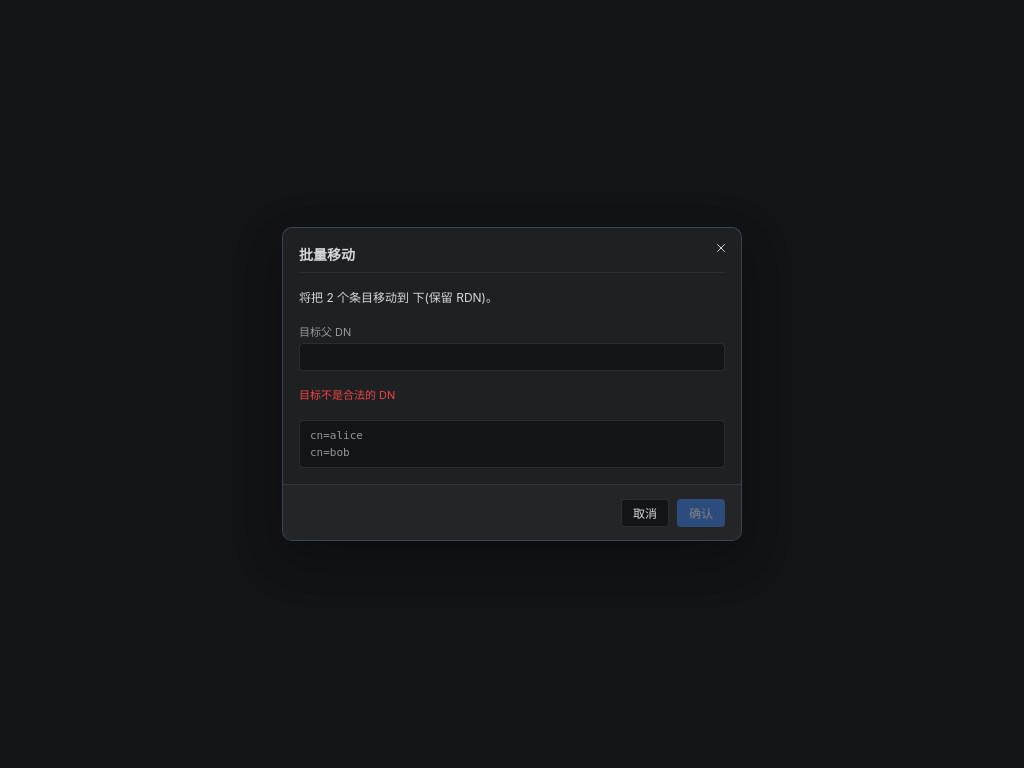
Test: BatchMoveDialog › blocks doomed targets: inside a selected subtree, the entry itself, or its current parent
The image size is (1024, 768).
Type "CN=alice,dc=demo,dc=dbx" into the field with class "target-input" at (512, 357), box [299,343,725,371]
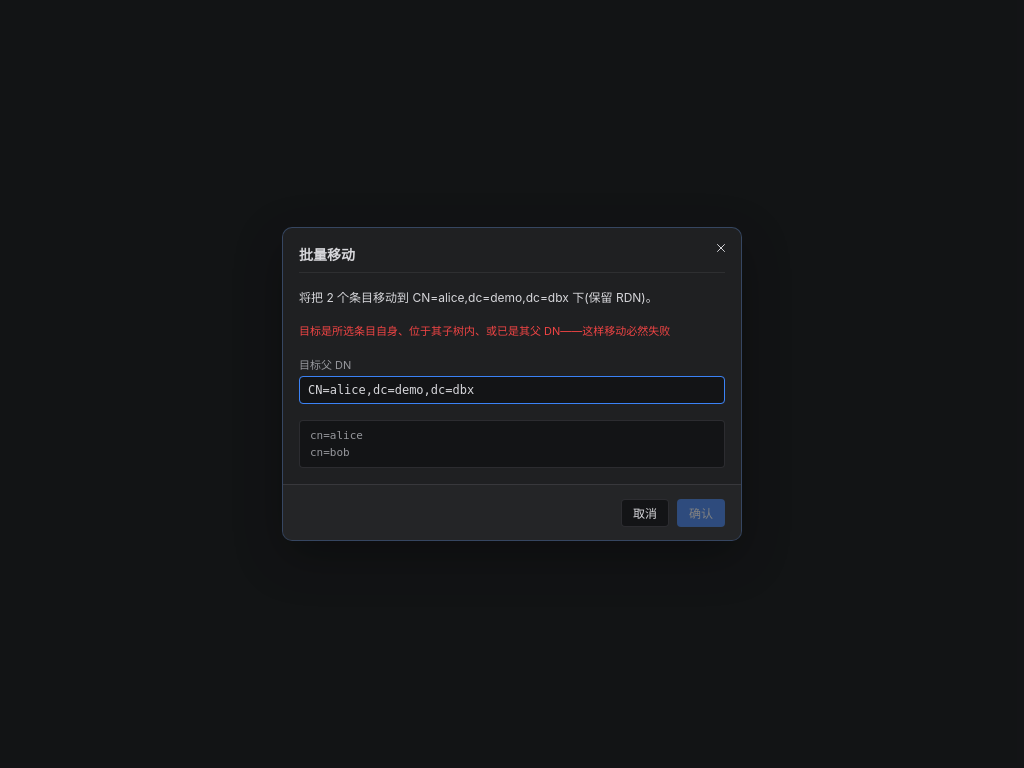
Check: the button "确认" is disabled, box [677,499,725,527]
Check: the field with class "target-input" is not marked as invalid
Replace the text in the field with class "target-input" with "ou=staff,cn=alice,dc=demo,dc=dbx" at (512, 390), box [299,376,725,404]
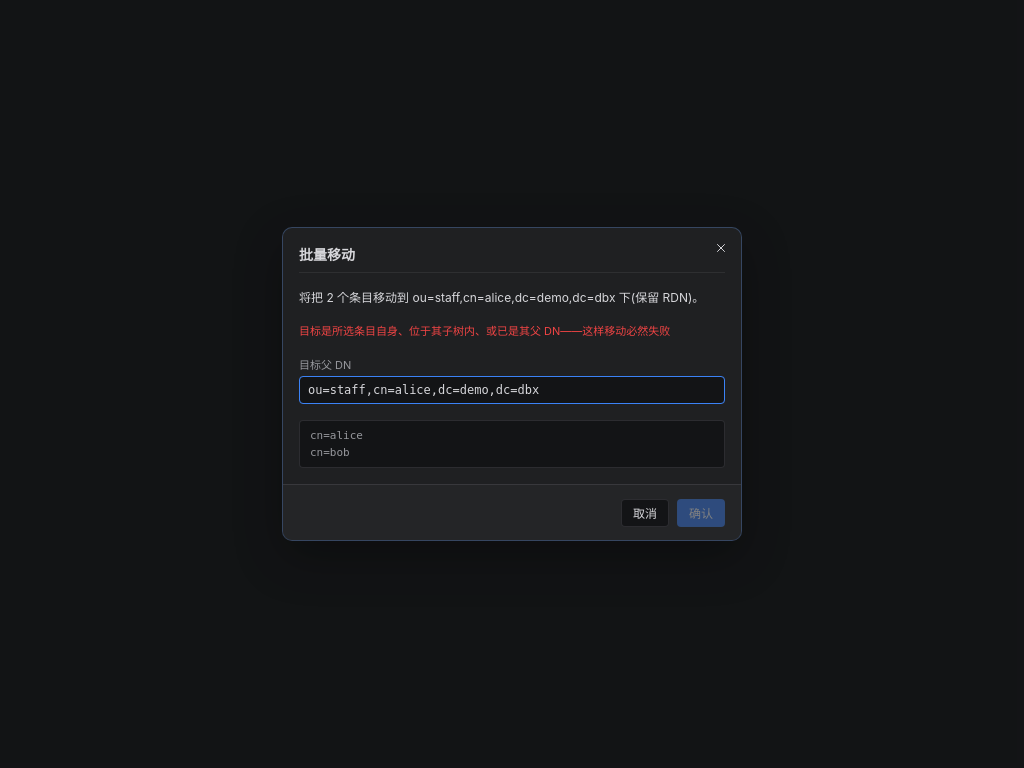
Check: the button "确认" is disabled, box [677,499,725,527]
Replace the text in the field with class "target-input" with "dc=demo,dc=dbx" at (512, 390), box [299,376,725,404]
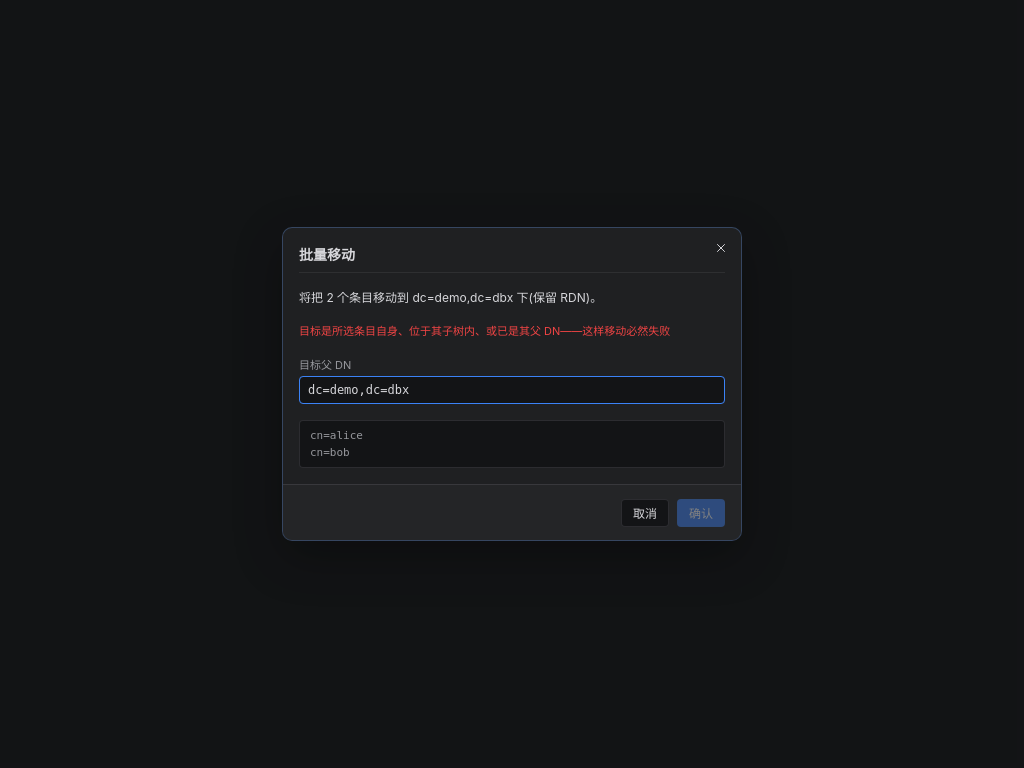
Check: the button "确认" is disabled, box [677,499,725,527]
Replace the text in the field with class "target-input" with "ou=people,dc=demo,dc=dbx" at (512, 390), box [299,376,725,404]
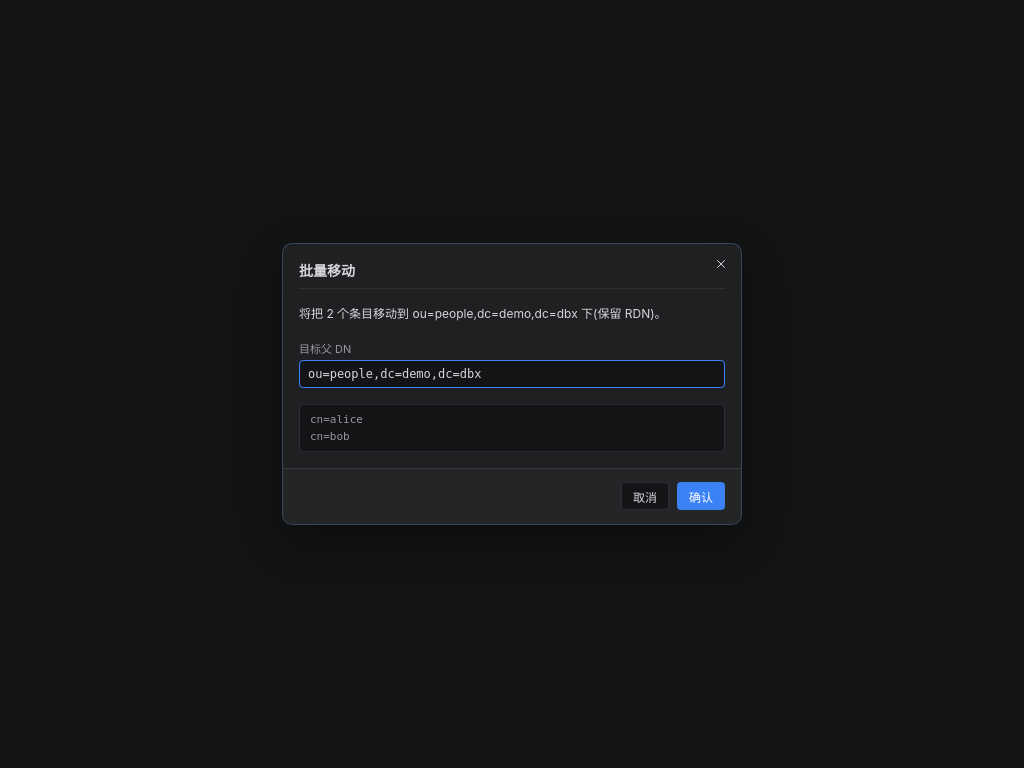
Check: the button "确认" is enabled, box [677,482,725,510]
